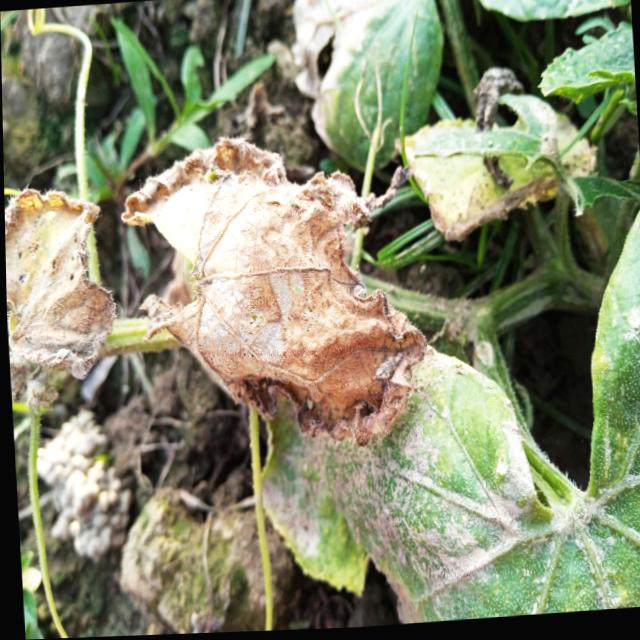Bacterial-Wilt: (117, 141, 426, 451), (4, 187, 114, 386)
